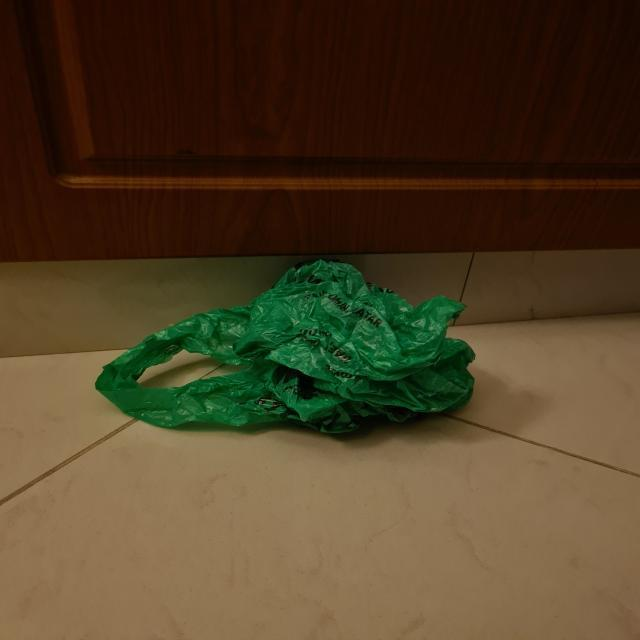Plastic_Bag: (79, 255, 488, 444)
